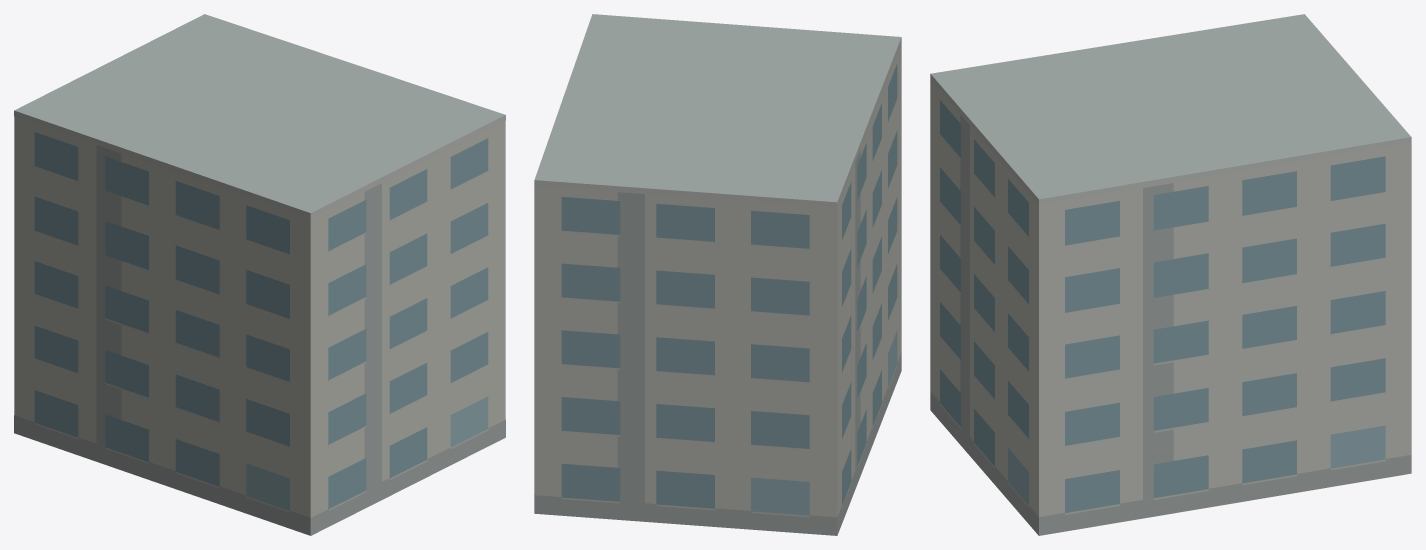
The model's file is survey-upis-32867613.glb.
3 views of the same model, side by side, from view 1: azimuth 30°, elevation 25°; view 2: azimuth 150°, elevation 25°; view 3: azimuth 270°, elevation 25° (orthographic). The views are drawn at different scales.
Visible parts, largest first — view 1: survey-upis-32867613.tmp; view 2: survey-upis-32867613.tmp; view 3: survey-upis-32867613.tmp.
Part boxes in pixels (x1,y1,x2,y2): survey-upis-32867613.tmp: (14, 14, 505, 535); survey-upis-32867613.tmp: (534, 14, 901, 535); survey-upis-32867613.tmp: (930, 14, 1411, 535).
Bounding box in the file's own units: 15.96 × 13.5 × 17.5.
